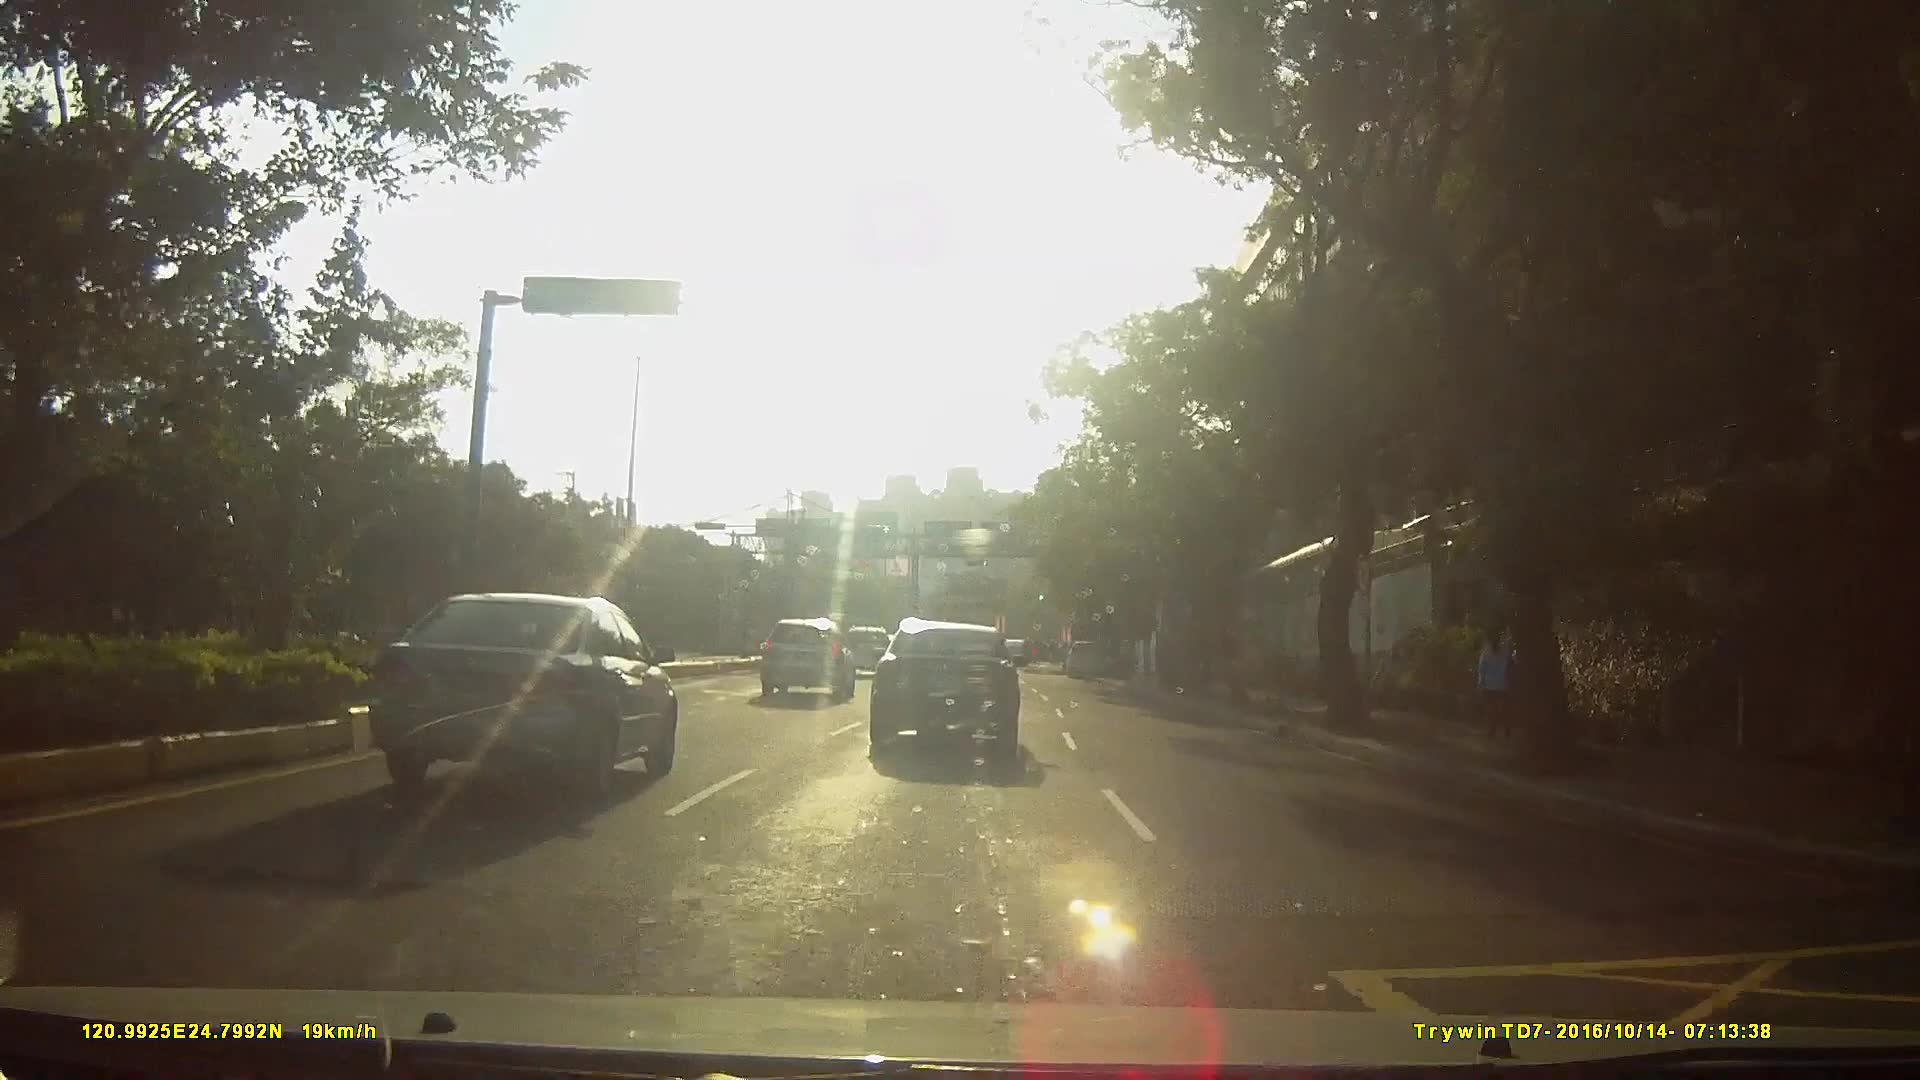pedestrian: (1475, 615, 1522, 741)
vehicle: (364, 587, 676, 801), (867, 616, 1042, 761), (757, 616, 857, 704), (841, 625, 895, 677), (1064, 639, 1112, 682)
